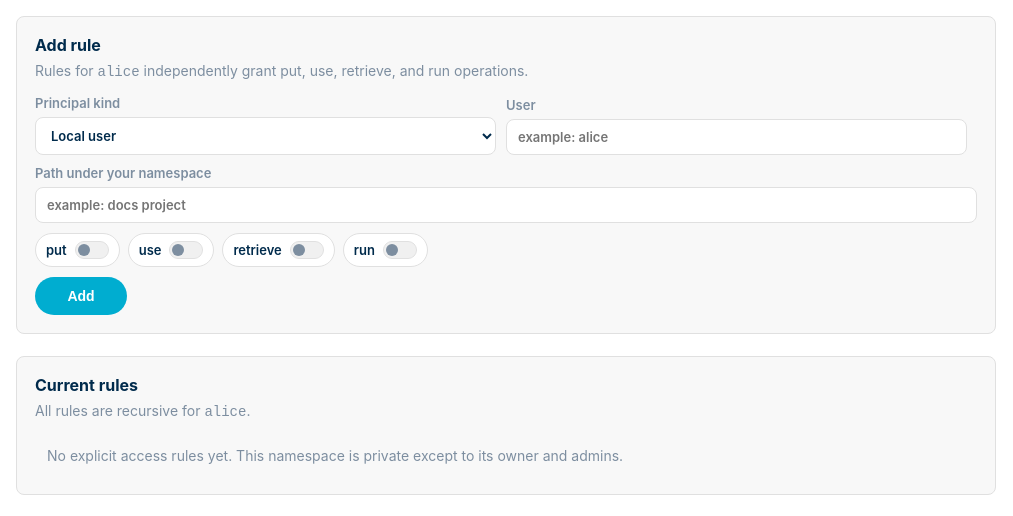
Scenario: AccessPanel › orders progressive permission pills without Scheme punctuation
Expected: the text "No explicit access rules yet. This namespace is private except to its owner and admins." is shown, [47, 447, 623, 464]
Expected: the field labelled "read-only" is not shown
Click the checkbox labelled "use" at (171, 250), box [139, 241, 204, 259]
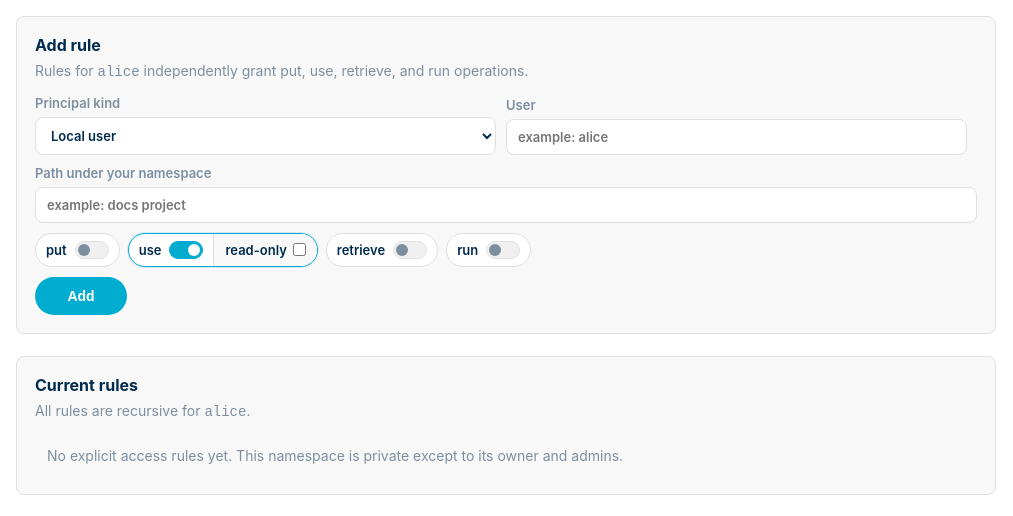
Now the checkbox labelled "read-only" is not checked, box [293, 243, 306, 256]
Click the checkbox labelled "retrieve" at (382, 250), box [337, 241, 427, 259]
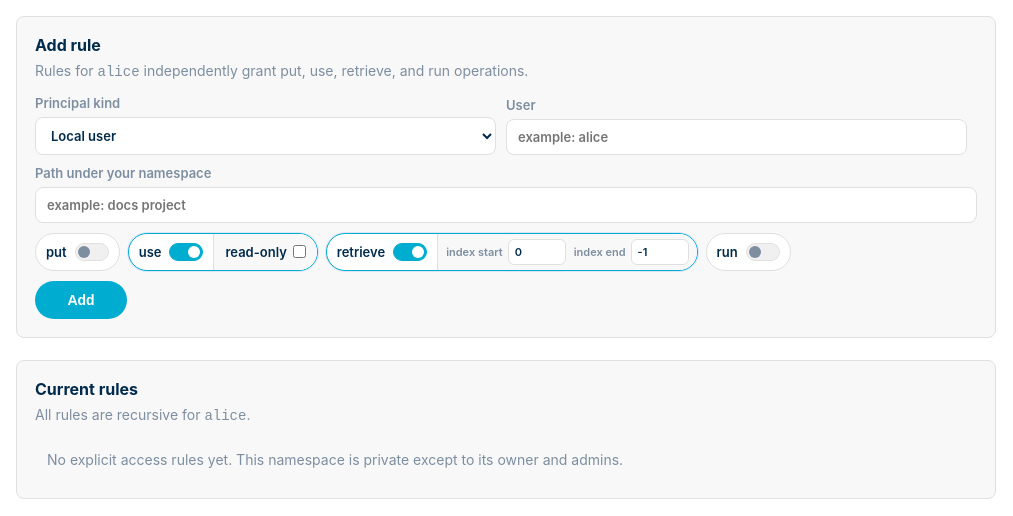
Now the number field labelled "index start" holds "0", box [508, 239, 566, 265]
Now the number field labelled "index end" holds "-1", box [630, 239, 688, 265]
